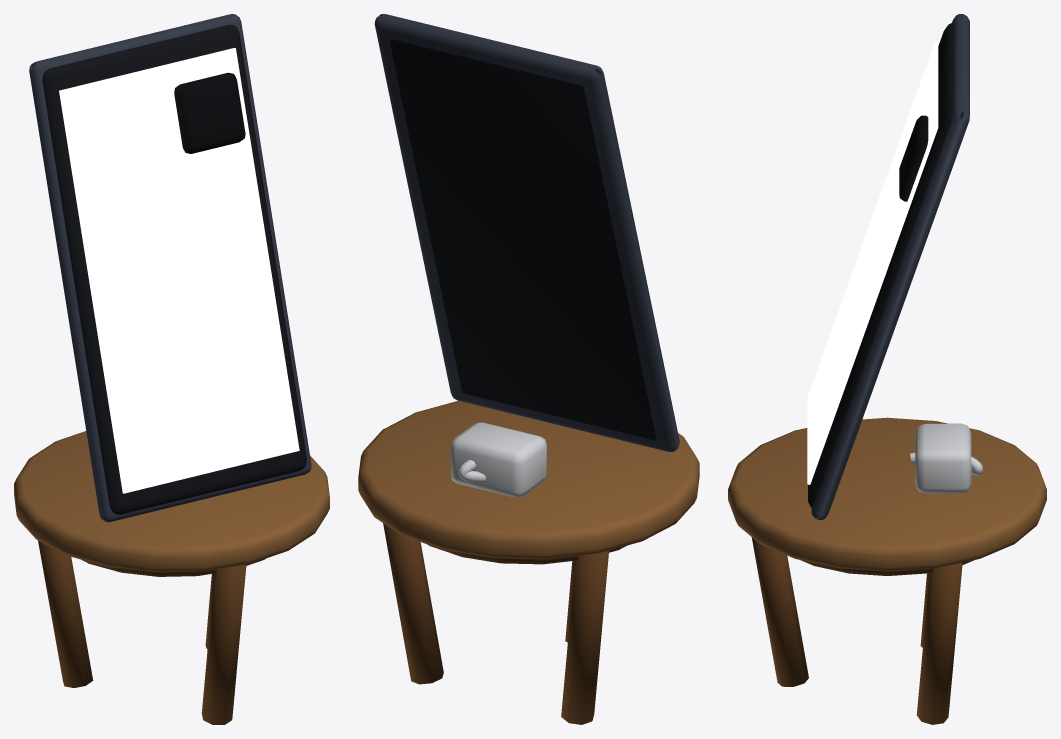
File: charge-phone.glb
3 renders of one model, left to right at view 1: azimuth 30°, elevation 25°; view 2: azimuth 150°, elevation 25°; view 3: azimuth 270°, elevation 25°, orthographic. The views are drawn at different scales.
Parts seen in each view (by area): view 1: glow, stand, body; view 2: body, stand; view 3: stand, body, glow.
Part boxes in pixels (bbox=[...]): glow: bbox=[59, 48, 299, 493]; stand: bbox=[14, 431, 329, 724]; body: bbox=[29, 14, 311, 522]; body: bbox=[374, 14, 679, 497]; stand: bbox=[358, 400, 699, 724]; stand: bbox=[728, 417, 1046, 724]; body: bbox=[808, 14, 982, 519]; glow: bbox=[807, 41, 938, 484].
Bounding box in the file's own units: 0.4 × 0.8598 × 0.4.
